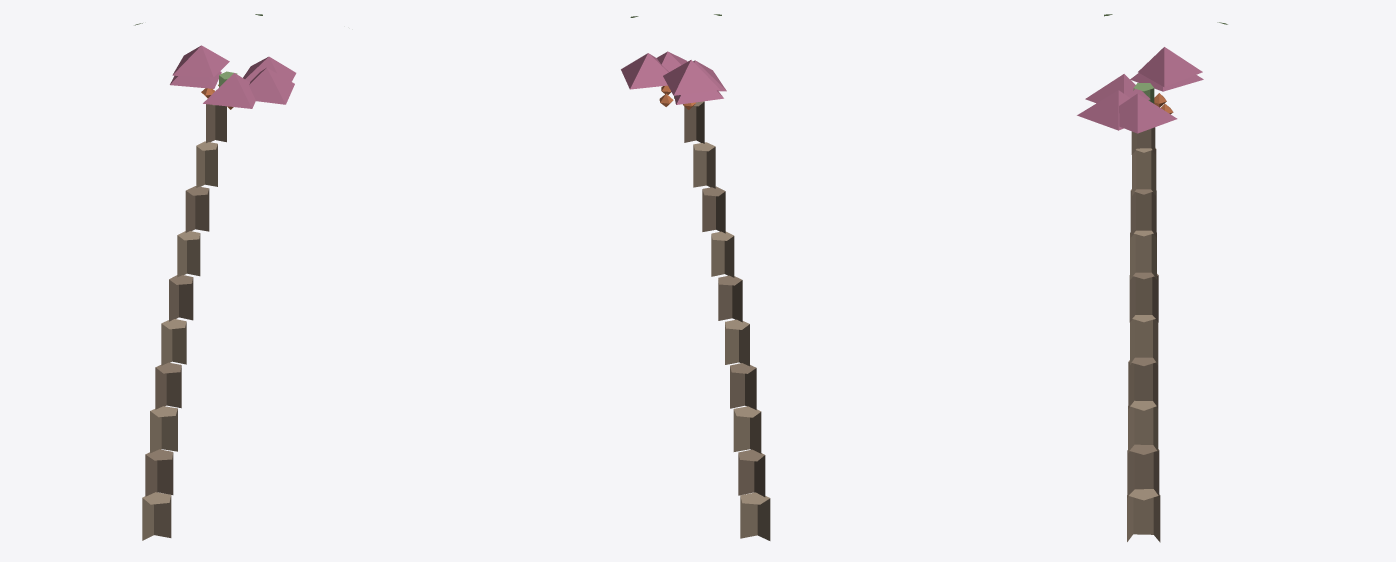
File: tree.trop.coconut_palm__bloom.glb
3 renders of one model, left to right at view 1: azimuth 30°, elevation 25°; view 2: azimuth 150°, elevation 25°; view 3: azimuth 270°, elevation 25°, orthographic. The views are drawn at different scales.
Parts seen in each view (by area): view 1: tree.trop.coconut_palm__bloom; view 2: tree.trop.coconut_palm__bloom; view 3: tree.trop.coconut_palm__bloom.
Boxes of the visible parts, box(x1,y1,x2,y2) form: tree.trop.coconut_palm__bloom: box(134, 14, 296, 540); tree.trop.coconut_palm__bloom: box(621, 14, 770, 540); tree.trop.coconut_palm__bloom: box(1077, 14, 1227, 542).
Size of the model in its own units: 10.08 by 12.34 by 9.89.
